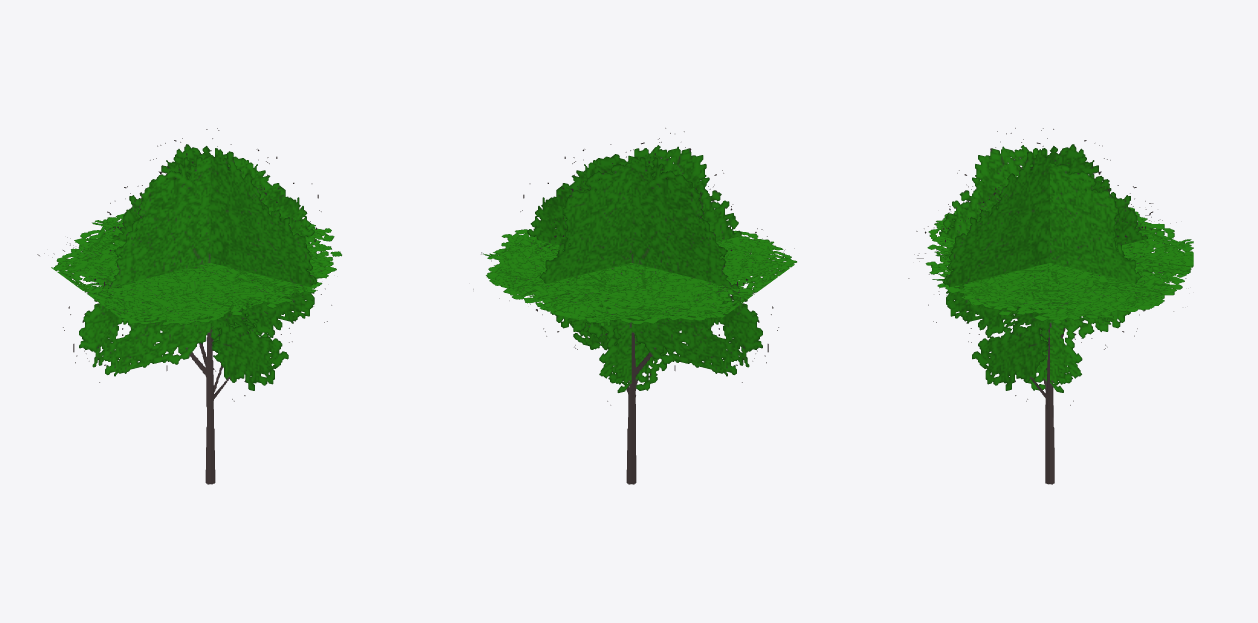
File: tree_deciduous_02_far.glb
3 renders of one model, left to right at view 1: azimuth 30°, elevation 25°; view 2: azimuth 150°, elevation 25°; view 3: azimuth 270°, elevation 25°, orthographic.
Visible parts, largest first — view 1: env; view 2: env; view 3: env.
Boxes of the visible parts, bbox=[...] form: env: bbox=[37, 128, 341, 484]; env: bbox=[473, 128, 796, 484]; env: bbox=[908, 128, 1193, 484].
Bounding box in the file's own units: 4.98 × 4.98 × 4.31.
1 material, 1 textured.
